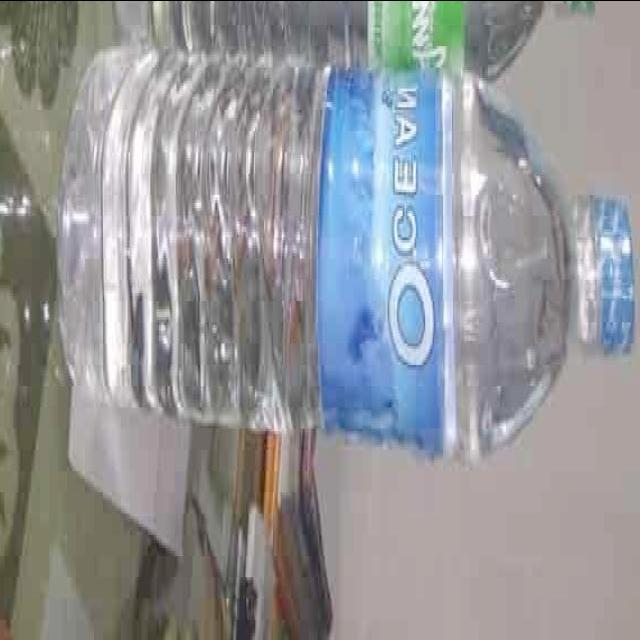label: (324, 52, 446, 458), (587, 195, 631, 358)
not-crumbled: (45, 38, 640, 464)
